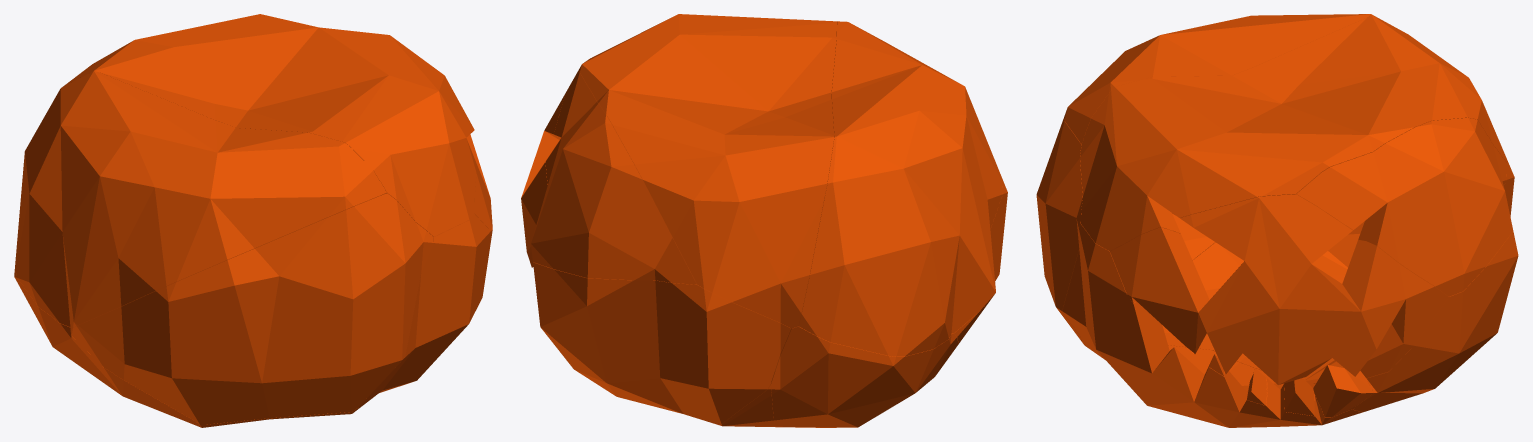
The model's file is pumpkin_broken1.glb.
3 views of the same model, side by side, from view 1: azimuth 30°, elevation 25°; view 2: azimuth 150°, elevation 25°; view 3: azimuth 270°, elevation 25° (orthographic). The views are drawn at different scales.
Visible parts, largest first — view 1: Sphere_cell.004, Sphere_cell, Sphere_cell.006, Sphere_cell.003, Sphere_cell.008, Sphere_cell.001; view 2: Sphere_cell.006, Sphere_cell.004, Sphere_cell.007, Sphere_cell.005, Sphere_cell.008, Sphere_cell.001, Sphere_cell.002, Sphere_cell; view 3: Sphere_cell.006, Sphere_cell.001, Sphere_cell.005, Sphere_cell.003, Sphere_cell.004, Sphere_cell.007, Sphere_cell, Sphere_cell.008, Sphere_cell.010, Sphere_cell.002.
Boxes of the visible parts, bbox=[...] form: Sphere_cell.004: bbox=[15, 70, 386, 328]; Sphere_cell: bbox=[71, 193, 433, 424]; Sphere_cell.006: bbox=[63, 15, 476, 236]; Sphere_cell.003: bbox=[360, 214, 491, 407]; Sphere_cell.008: bbox=[14, 265, 365, 427]; Sphere_cell.001: bbox=[444, 75, 492, 233]; Sphere_cell.006: bbox=[578, 14, 836, 328]; Sphere_cell.004: bbox=[798, 21, 1002, 356]; Sphere_cell.007: bbox=[533, 262, 790, 424]; Sphere_cell.005: bbox=[531, 71, 696, 284]; Sphere_cell.008: bbox=[771, 326, 958, 427]; Sphere_cell.001: bbox=[521, 58, 590, 267]; Sphere_cell.002: bbox=[708, 384, 777, 427]; Sphere_cell: bbox=[954, 173, 1007, 343]; Sphere_cell.006: bbox=[1080, 15, 1507, 251]; Sphere_cell.001: bbox=[1110, 194, 1448, 417]; Sphere_cell.005: bbox=[1296, 117, 1513, 296]; Sphere_cell.003: bbox=[1062, 224, 1362, 427]; Sphere_cell.004: bbox=[1064, 14, 1410, 143]; Sphere_cell.007: bbox=[1352, 161, 1518, 412]; Sphere_cell: bbox=[1036, 118, 1215, 340]; Sphere_cell.008: bbox=[1081, 221, 1364, 352]; Sphere_cell.010: bbox=[1247, 367, 1267, 405]; Sphere_cell.002: bbox=[1213, 324, 1391, 383].
Bounding box in the file's own units: 3.95 × 2.84 × 3.94.
